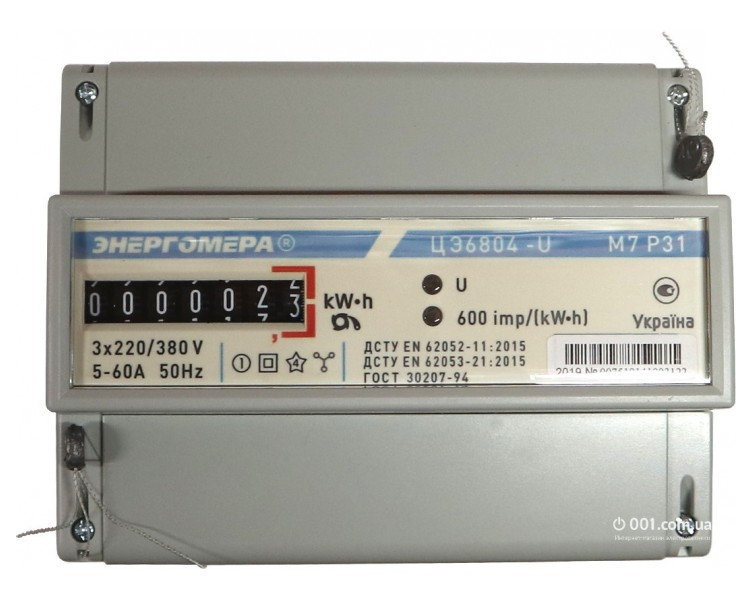counter: (41, 53, 738, 573)
counter_screen: (82, 274, 308, 328)
